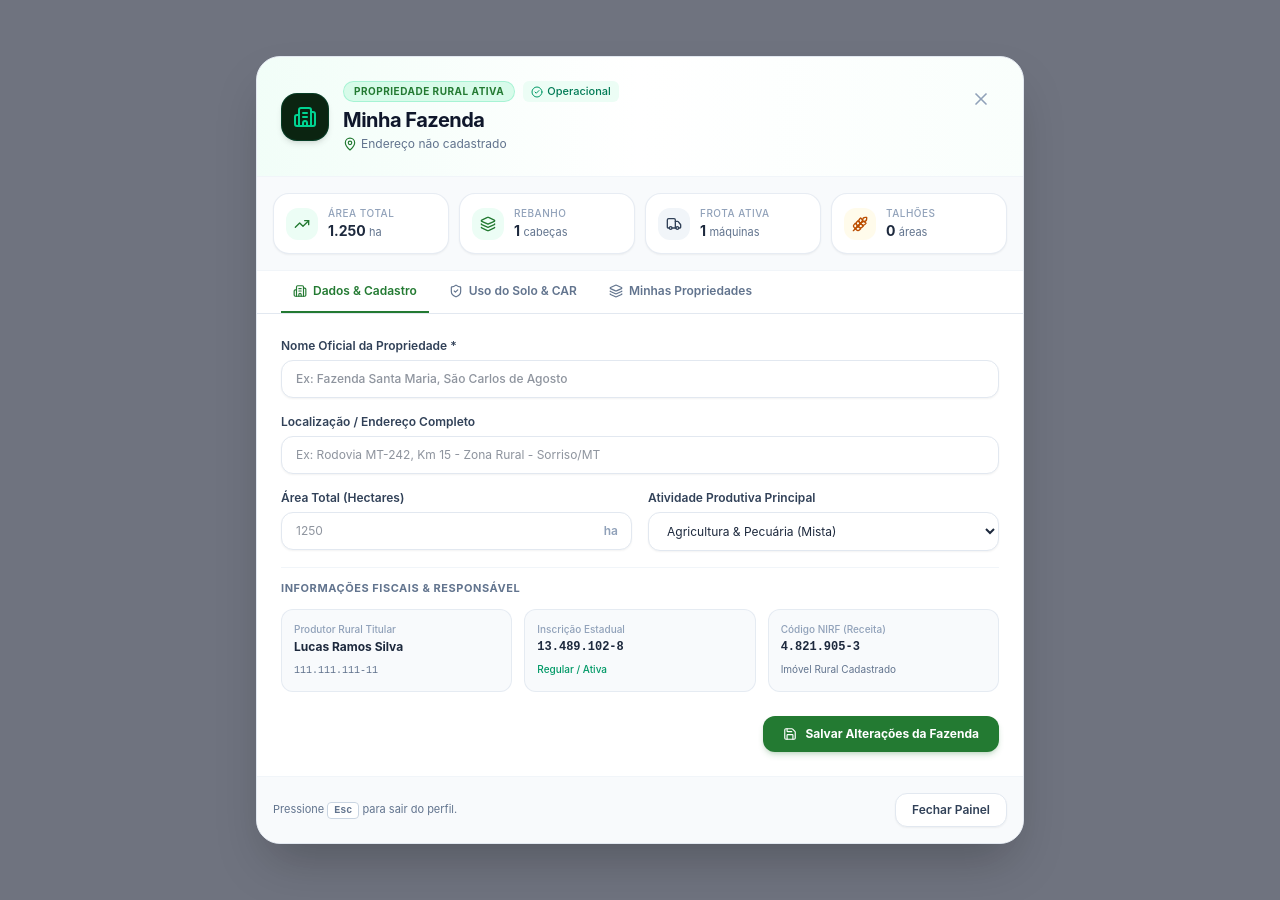
Test: Componente FarmProfileModal › deve alternar para a aba de Minhas Propriedades
Click the button "Minhas Propriedades": (680, 298) 597,283 -> 764,313
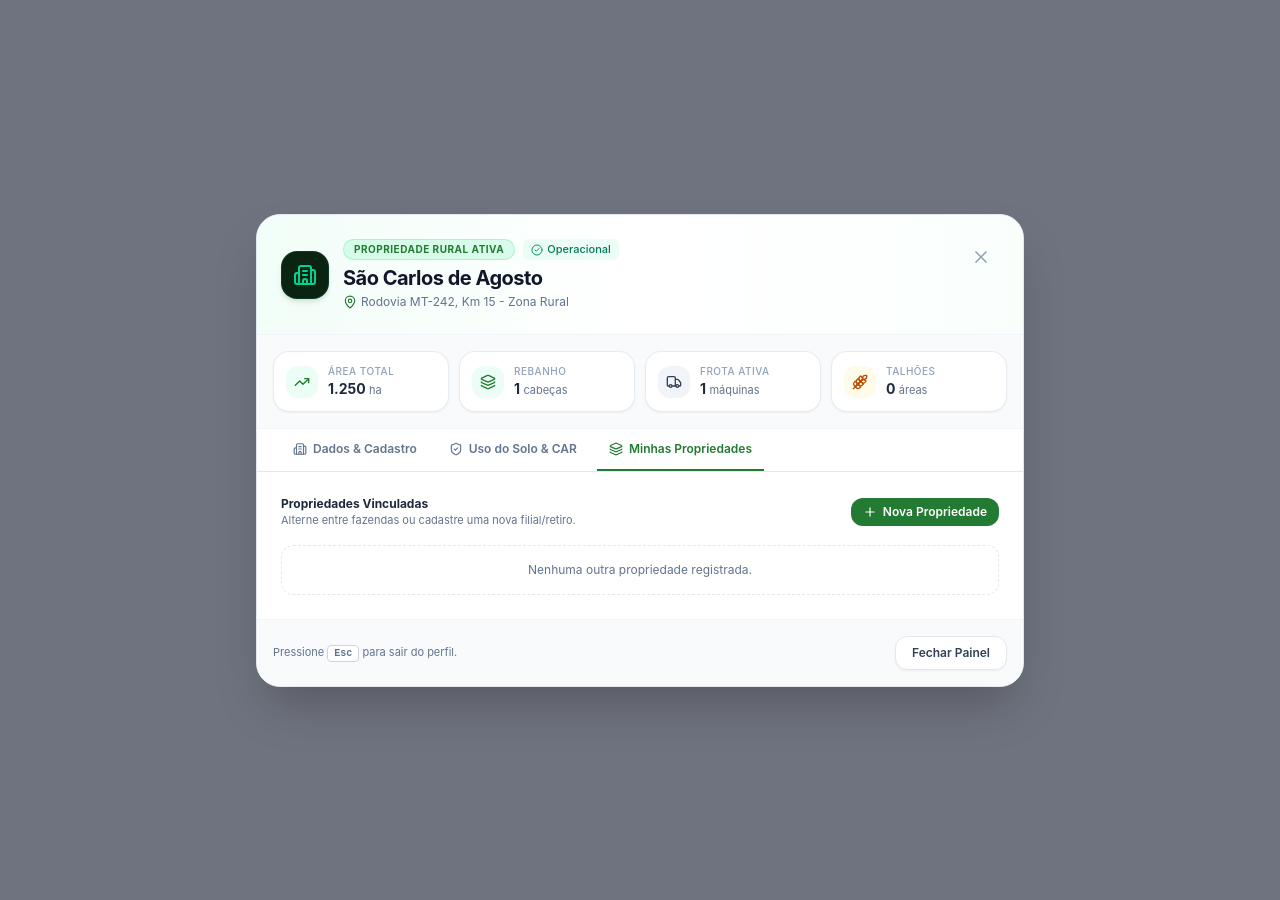
Result: the heading "Propriedades Vinculadas" is shown at 281,496 -> 428,511
Result: the text "Nova Propriedade" is shown at 883,504 -> 987,520
